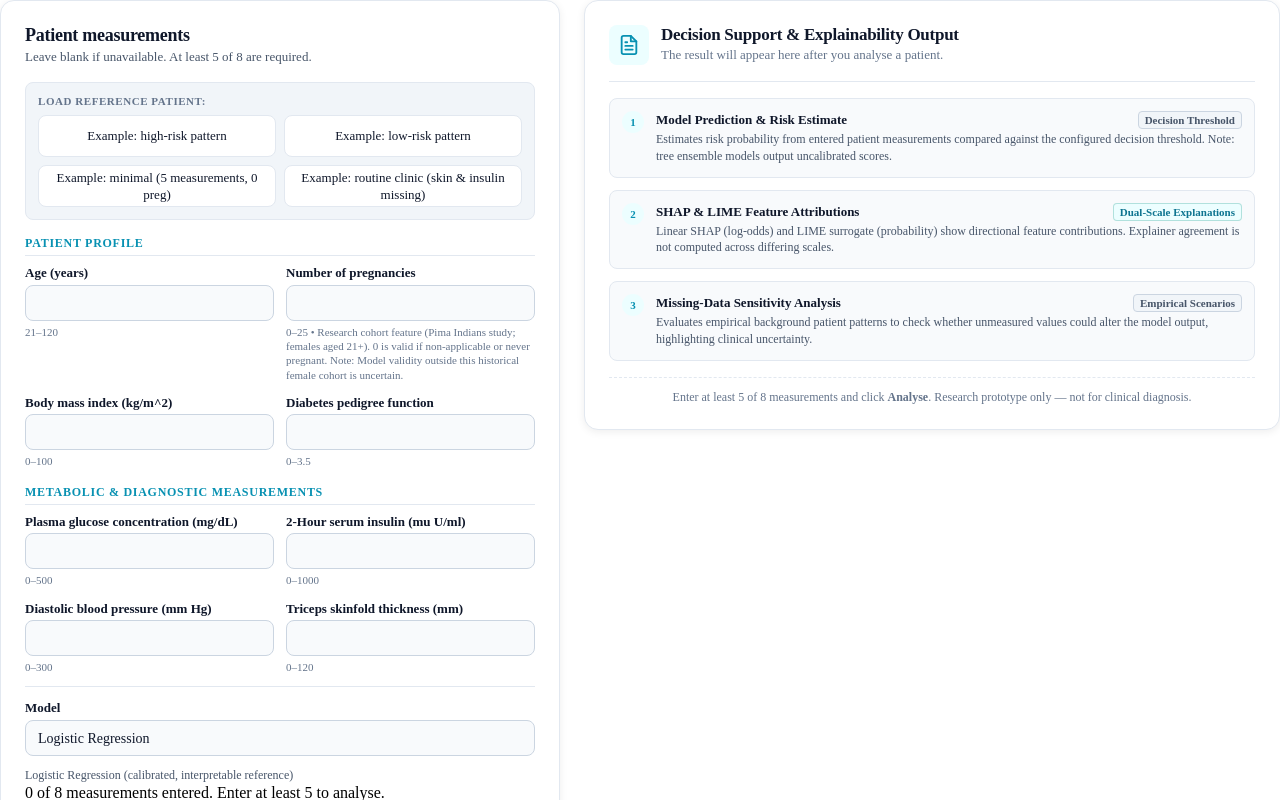
Test case: PredictionPage › sends the entered measurements and shows the diabetes result
Click the button "Example: high-risk pattern": (157, 136) x1=38 y1=115 x2=276 y2=157
(page scrolled)
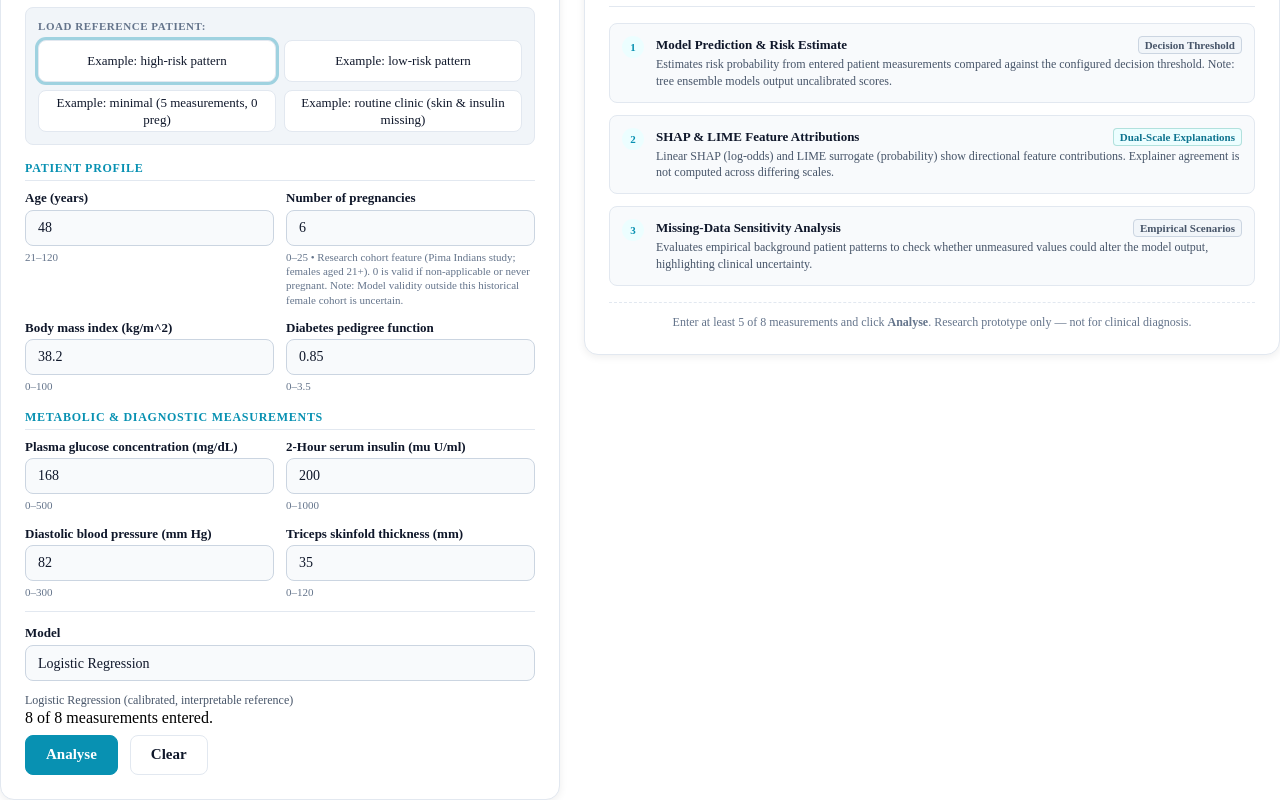
Click the button "Analyse": (71, 755) x1=25 y1=735 x2=118 y2=775
(page scrolled)
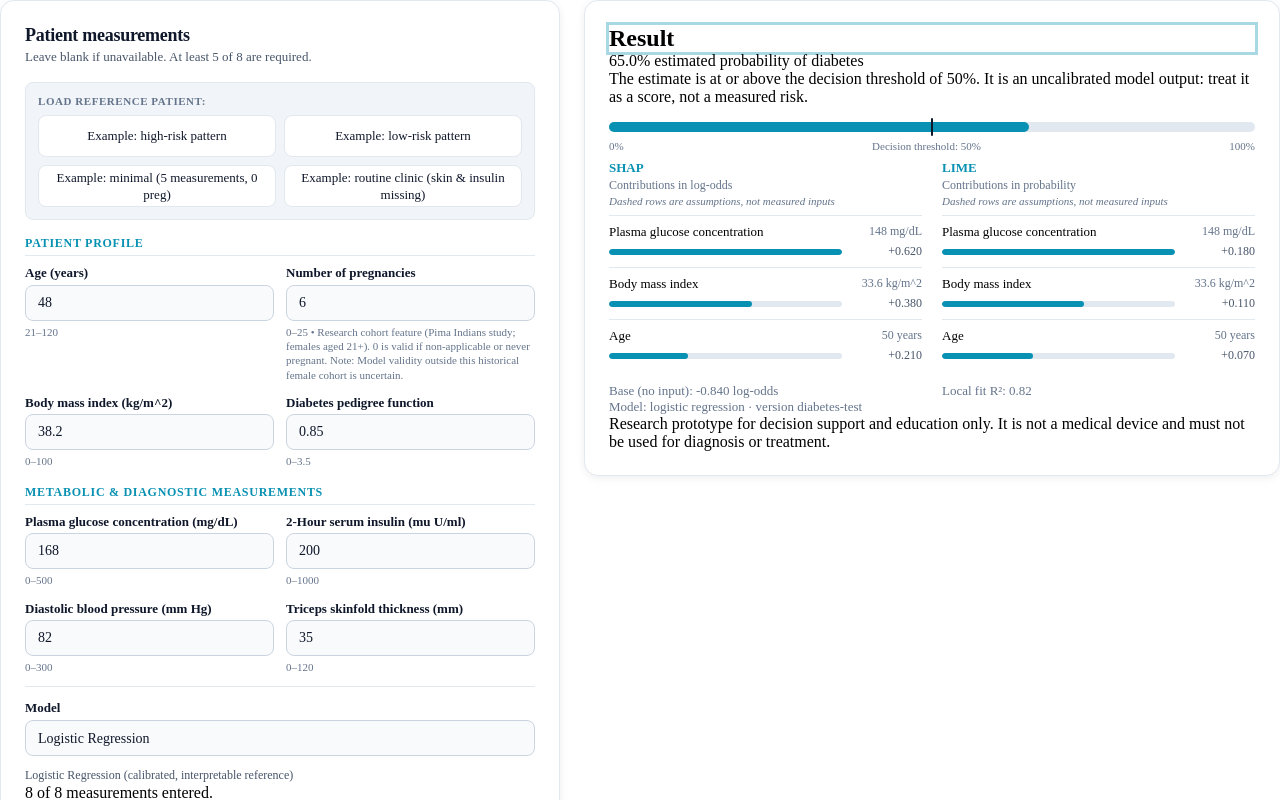
Expected: the text "65.0%" is shown, x1=609 y1=52 x2=650 y2=69
Expected: the text "65.0% estimated probability of diabetes" is shown, x1=609 y1=52 x2=864 y2=69
Expected: the text "at or above the decision threshold of 50%" is shown, x1=609 y1=70 x2=1255 y2=106
